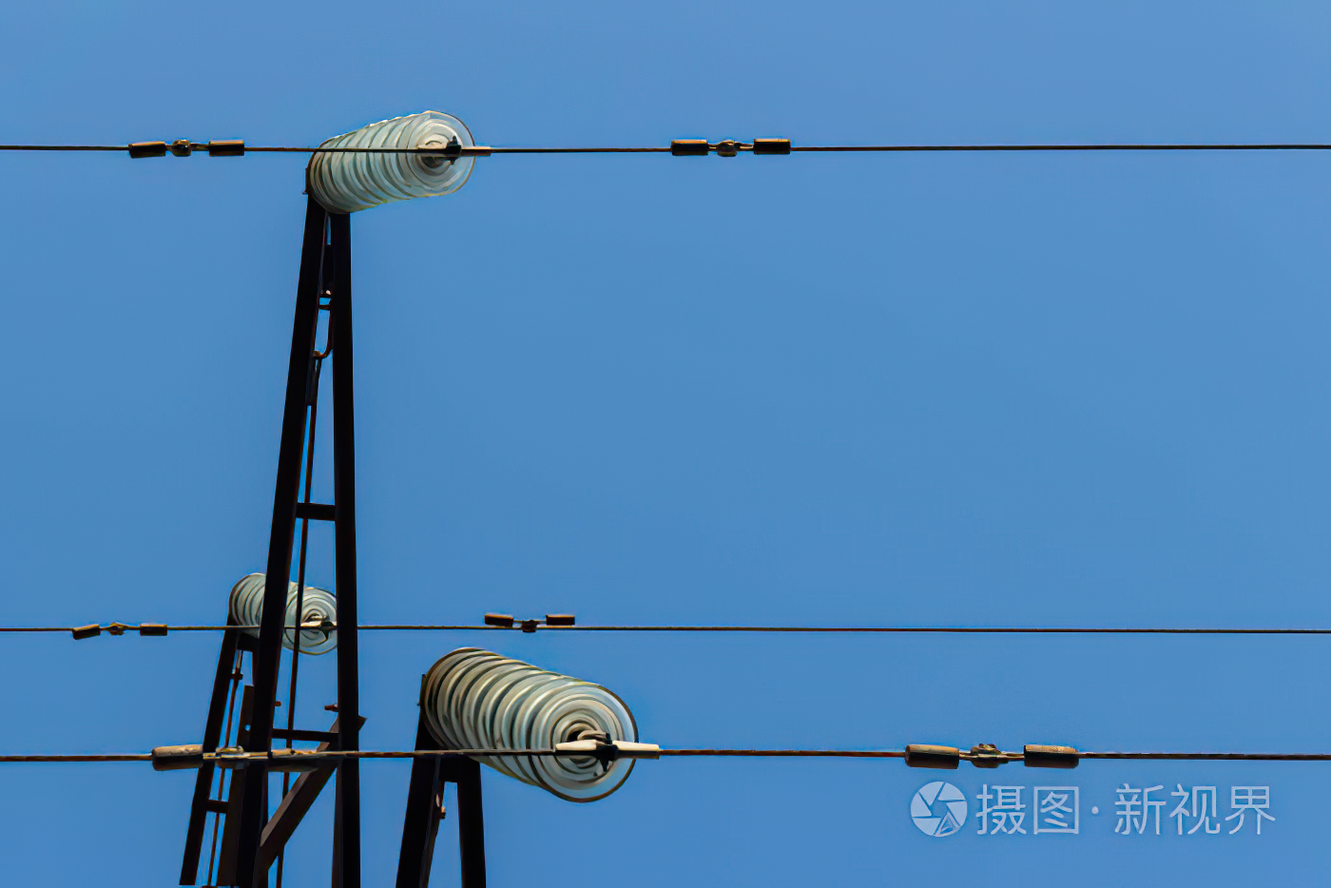insulator: (427, 647, 644, 805), (303, 113, 477, 212), (222, 569, 338, 653)
